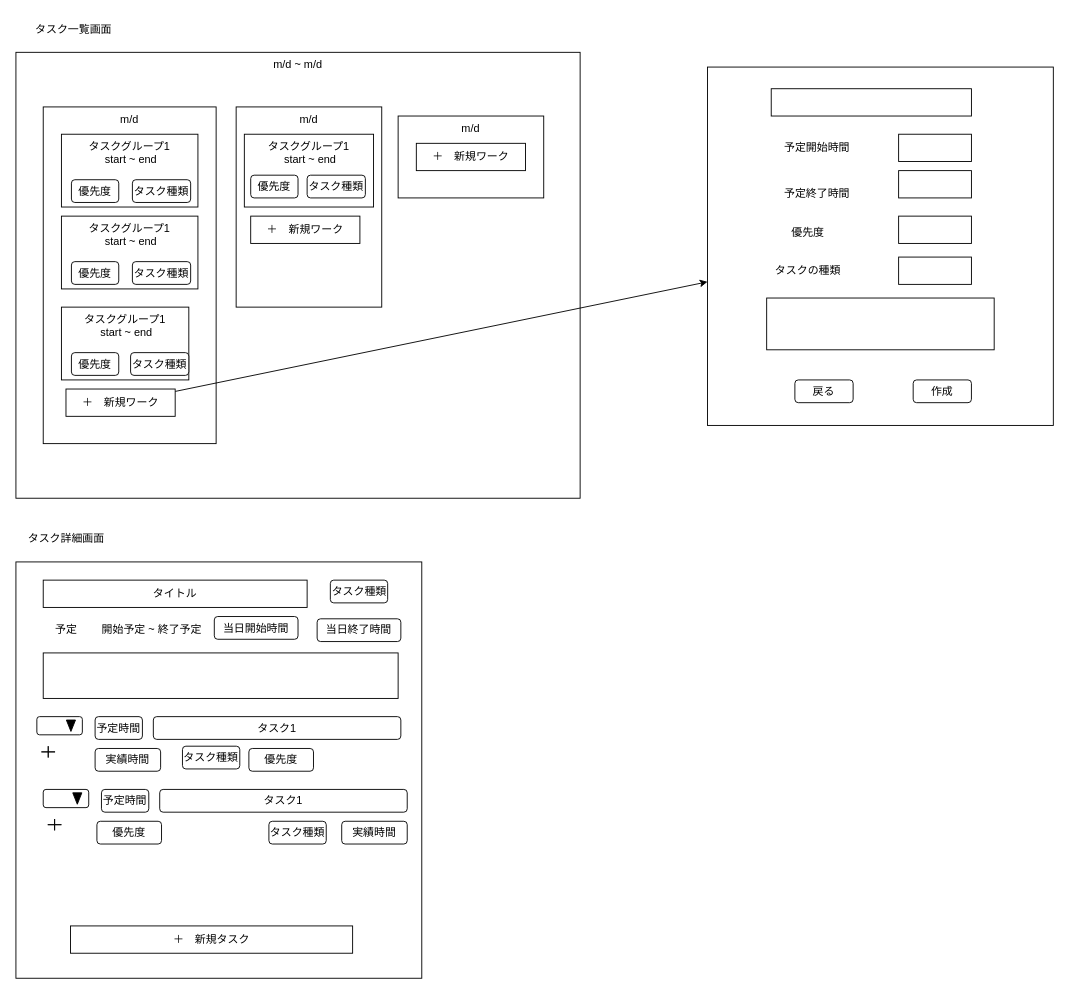
Some shapes in this 1069 by 994 pixel diagram are drawn without their labels. The shapes that lost their labels are listed below. From the top down, each one's centre as x and y in pixels, then its label:
the point at 870,102: タスク名
the point at 220,675: 説明
